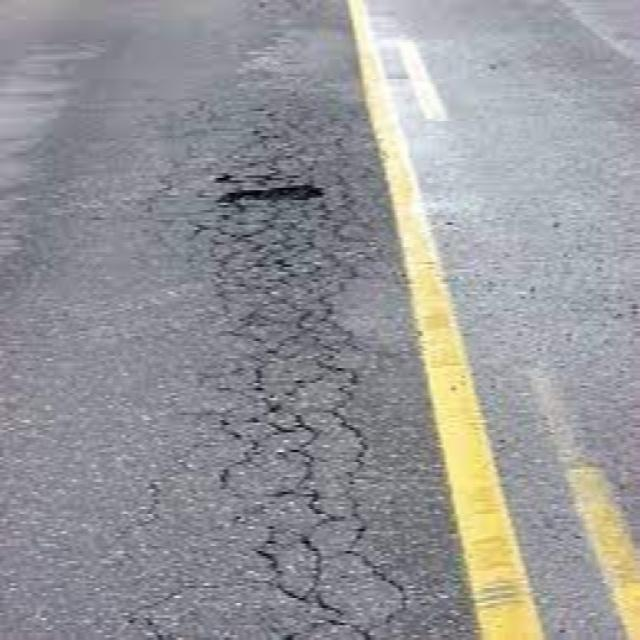Pothole: (210, 248, 415, 640), (203, 162, 333, 222)
